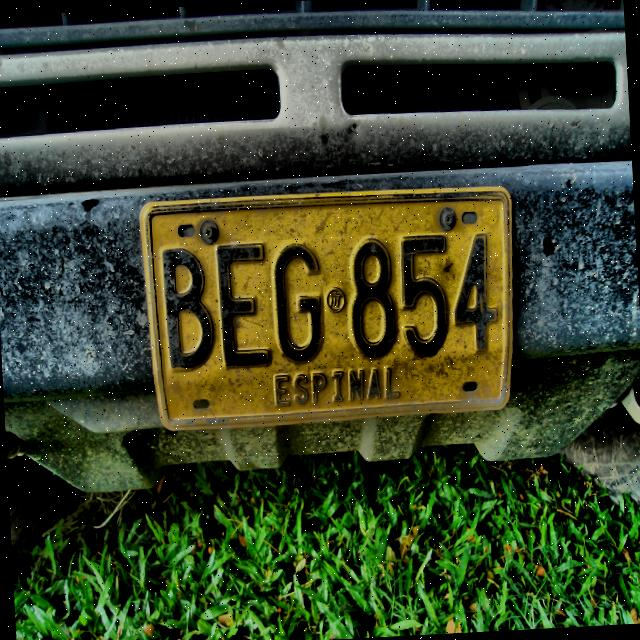4: (450, 231, 502, 360)
5: (397, 232, 451, 359)
8: (343, 234, 399, 360)
B: (156, 247, 218, 376)
E: (212, 241, 273, 371)
G: (268, 239, 326, 367)
